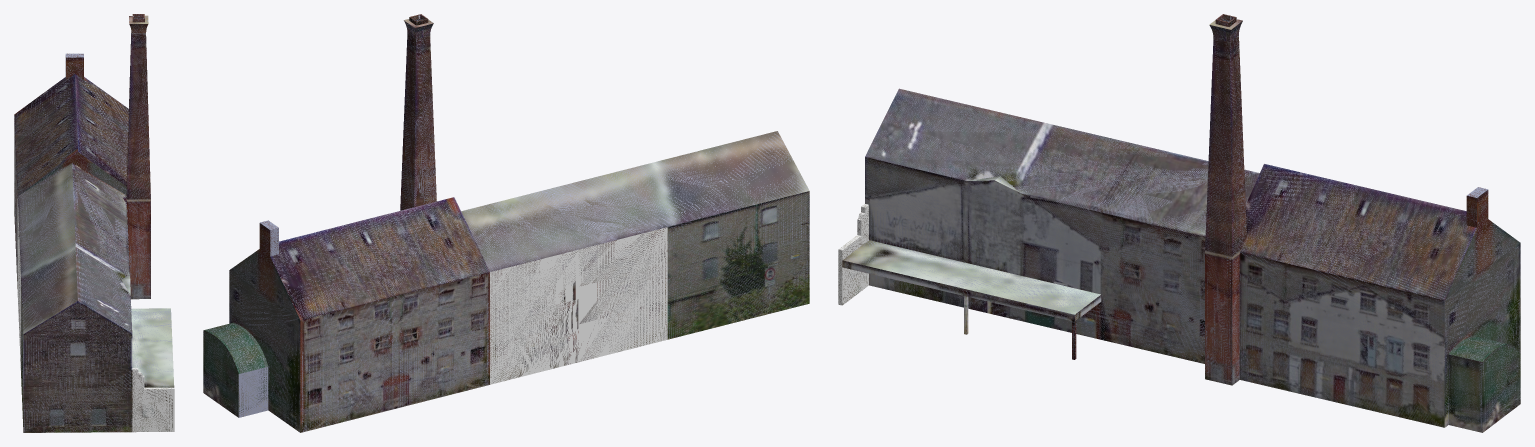
3 views of the same model, side by side, from view 1: azimuth 30°, elevation 25°; view 2: azimuth 150°, elevation 25°; view 3: azimuth 270°, elevation 25° (orthographic). The views are drawn at different scales.
Parts seen in each view (by area): view 1: SketchUp (×15); view 2: SketchUp (×10); view 3: SketchUp (×16).
Boxes of the visible parts, <box> form: SketchUp (×15): <box>14,24,174,432</box>; SketchUp (×10): <box>203,33,809,432</box>; SketchUp (×16): <box>838,35,1520,432</box>.
Bounding box in the file's own units: 1196 × 1719 × 996.
Materials: 36 (34 with a texture image).
